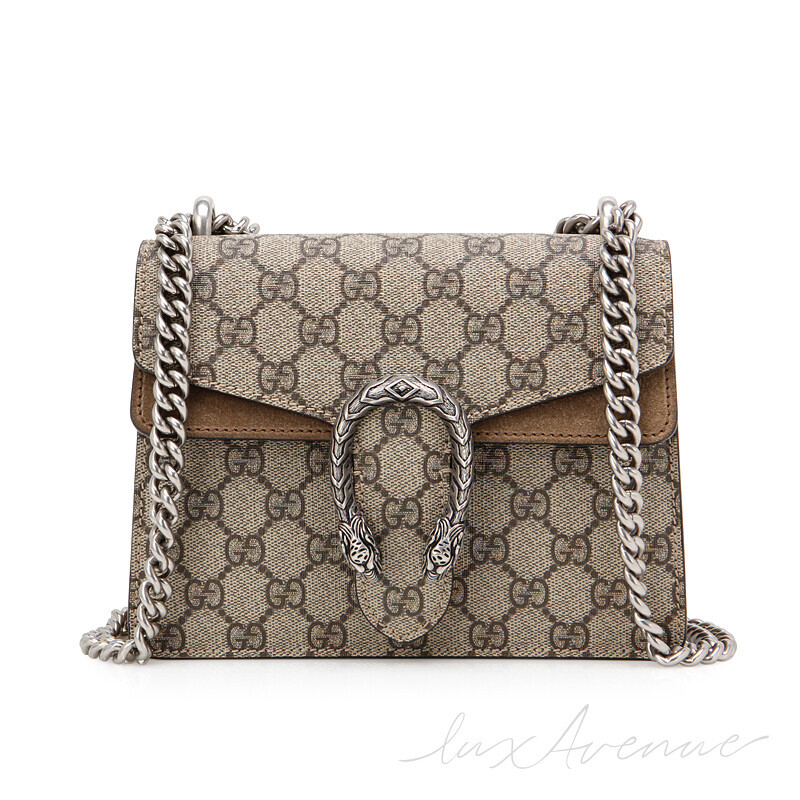Gucci: (90, 175, 686, 684), (292, 369, 480, 635), (214, 243, 590, 369)
